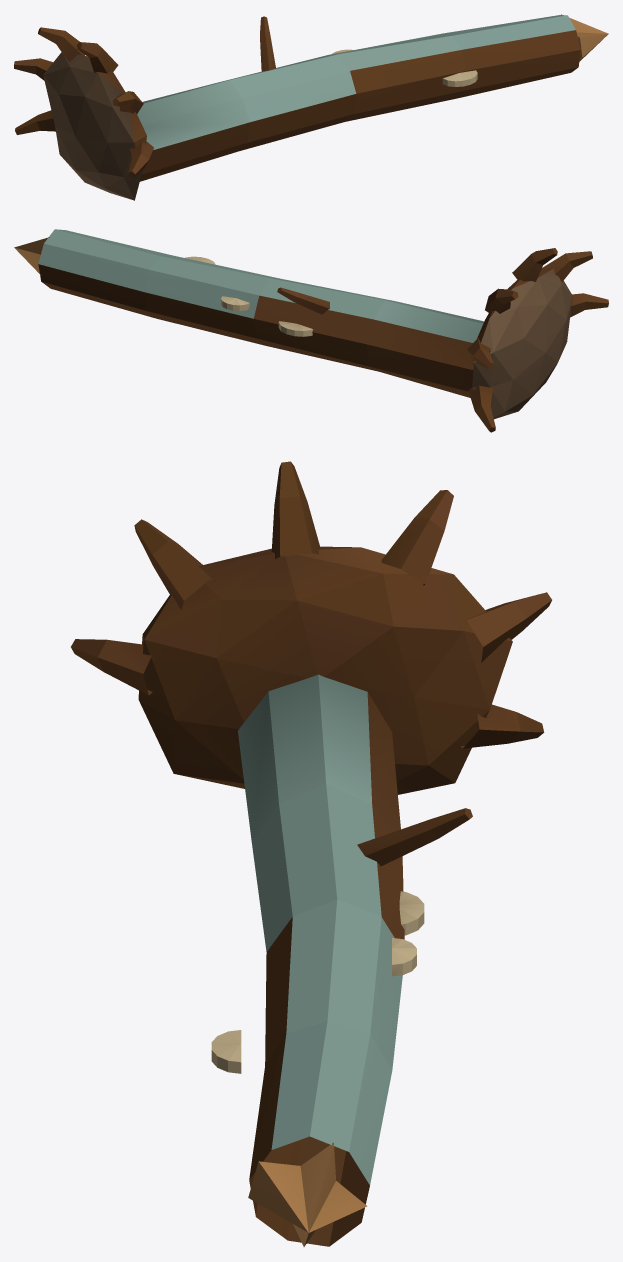
File: log_fallen_big.glb
3 renders of one model, top to bottom at view 1: azimuth 30°, elevation 25°; view 2: azimuth 150°, elevation 25°; view 3: azimuth 270°, elevation 25°, orthographic. The views are drawn at different scales.
Bounding box in the file's own units: 7.75 × 2.16 × 3.01.
